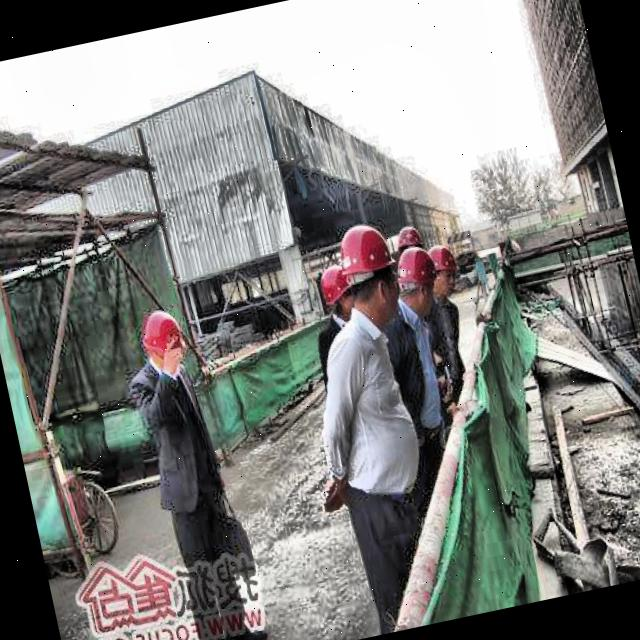helmet: (332, 214, 406, 330), (134, 304, 195, 382), (392, 242, 439, 314), (425, 242, 468, 310), (314, 258, 356, 324)
